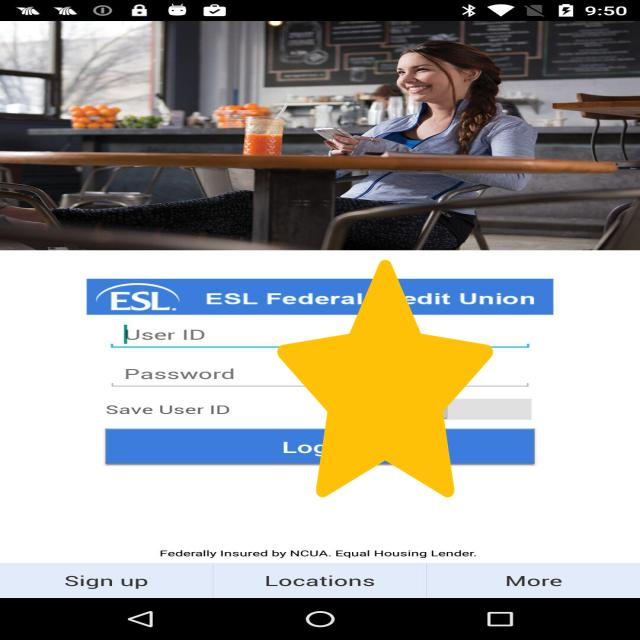forced continuity: (277, 260, 493, 498)
